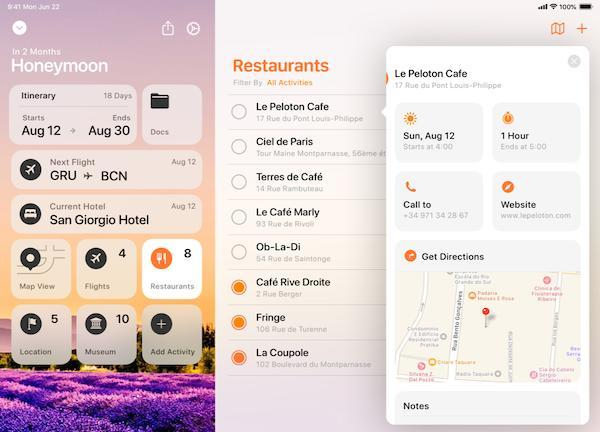icon: (20, 313, 44, 337), (20, 159, 45, 182), (19, 204, 44, 227), (86, 247, 109, 272), (152, 248, 175, 271), (149, 92, 174, 113), (85, 315, 109, 336), (152, 314, 174, 336), (549, 20, 568, 38), (12, 20, 30, 39), (161, 22, 177, 39), (187, 21, 202, 39), (502, 112, 518, 128), (502, 180, 517, 196), (404, 249, 419, 264), (576, 23, 590, 38), (405, 181, 419, 196), (569, 54, 582, 70), (405, 113, 419, 127)
radio: (230, 103, 250, 122), (230, 349, 250, 368), (230, 244, 249, 262), (231, 314, 249, 333), (230, 280, 250, 297), (231, 174, 249, 192), (230, 209, 248, 227), (231, 139, 249, 156)
